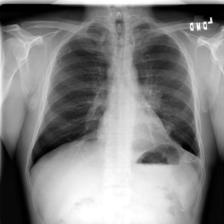normal: (24, 19, 208, 183)
